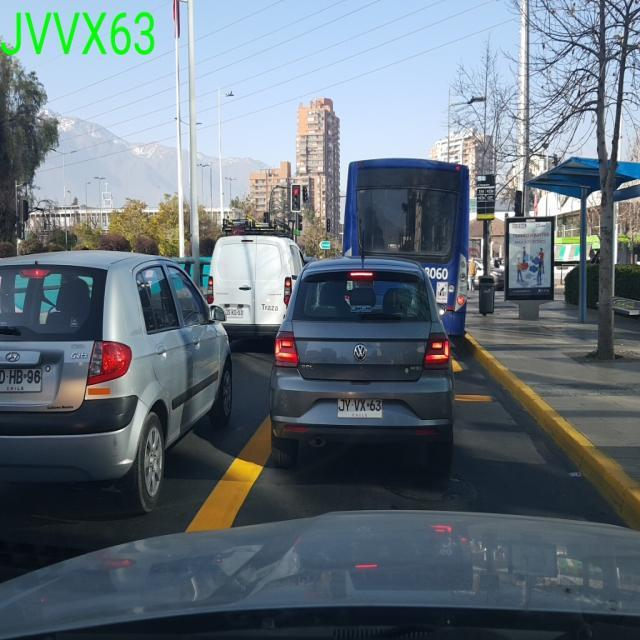Ad-signs: (503, 216, 554, 300)
Bus: (341, 156, 470, 338)
Car: (0, 508, 639, 639), (0, 248, 233, 514), (266, 255, 455, 472)
Traffic-light: (290, 184, 301, 211)
